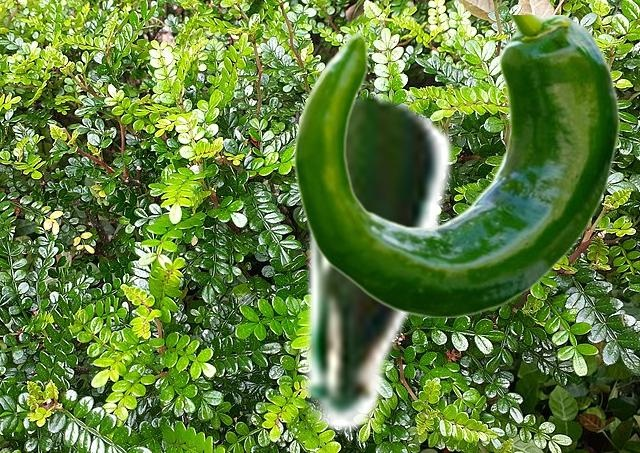green_chili: (293, 15, 620, 316), (292, 91, 455, 433)
